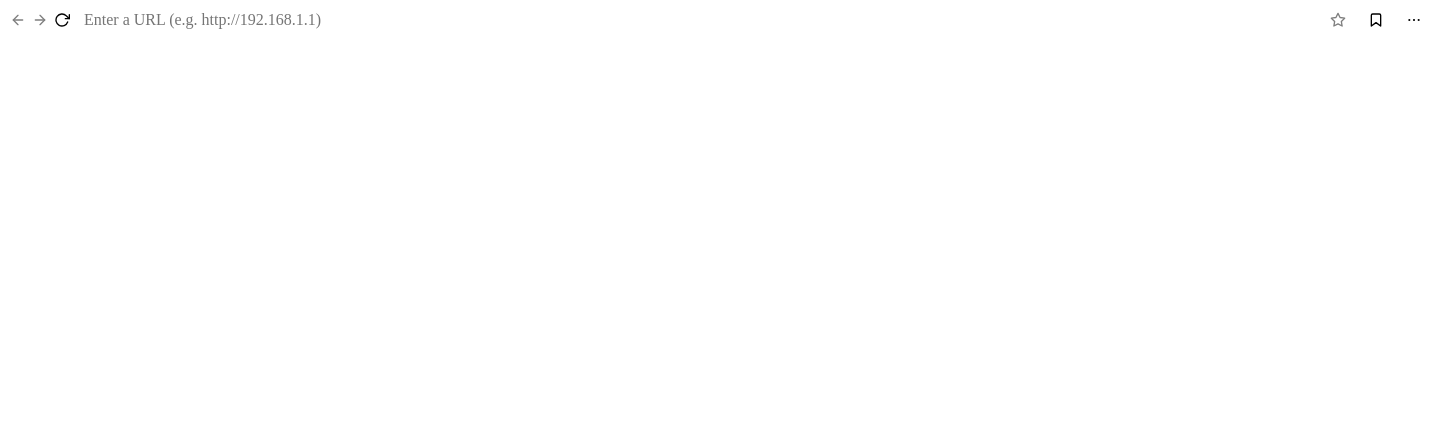
Test: WebBrowserPane › zoom › syncs the % display from a zoom-state event (WebView2 Ctrl+wheel / Ctrl±)
This screenshot has width=1440, height=432.
Step 1. Click the button named "More" → (1414,20), box [1398, 6, 1430, 34]
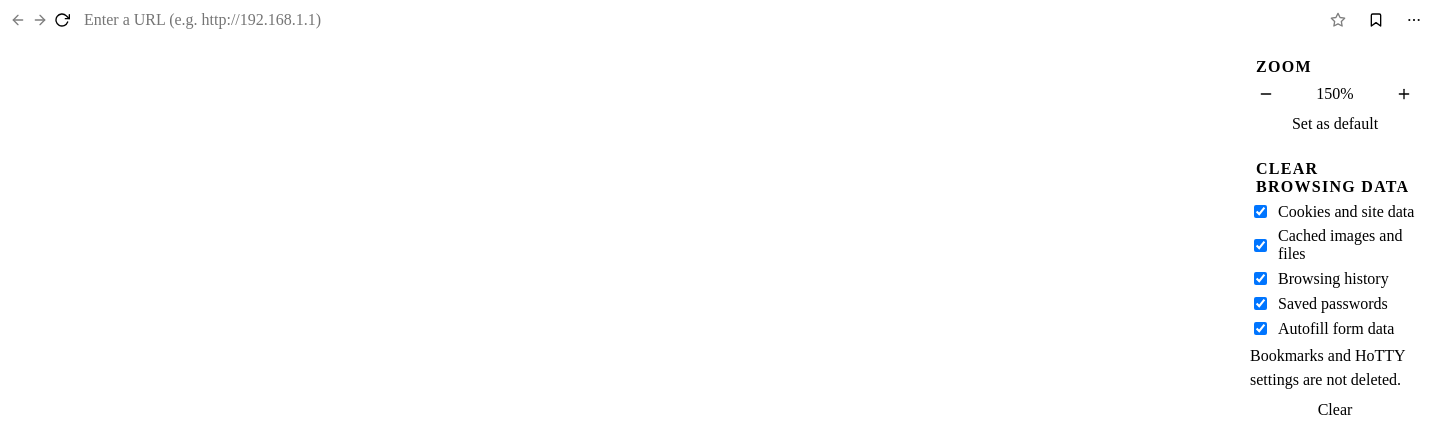
Now the button "150%" is shown, box [1286, 82, 1384, 106]
